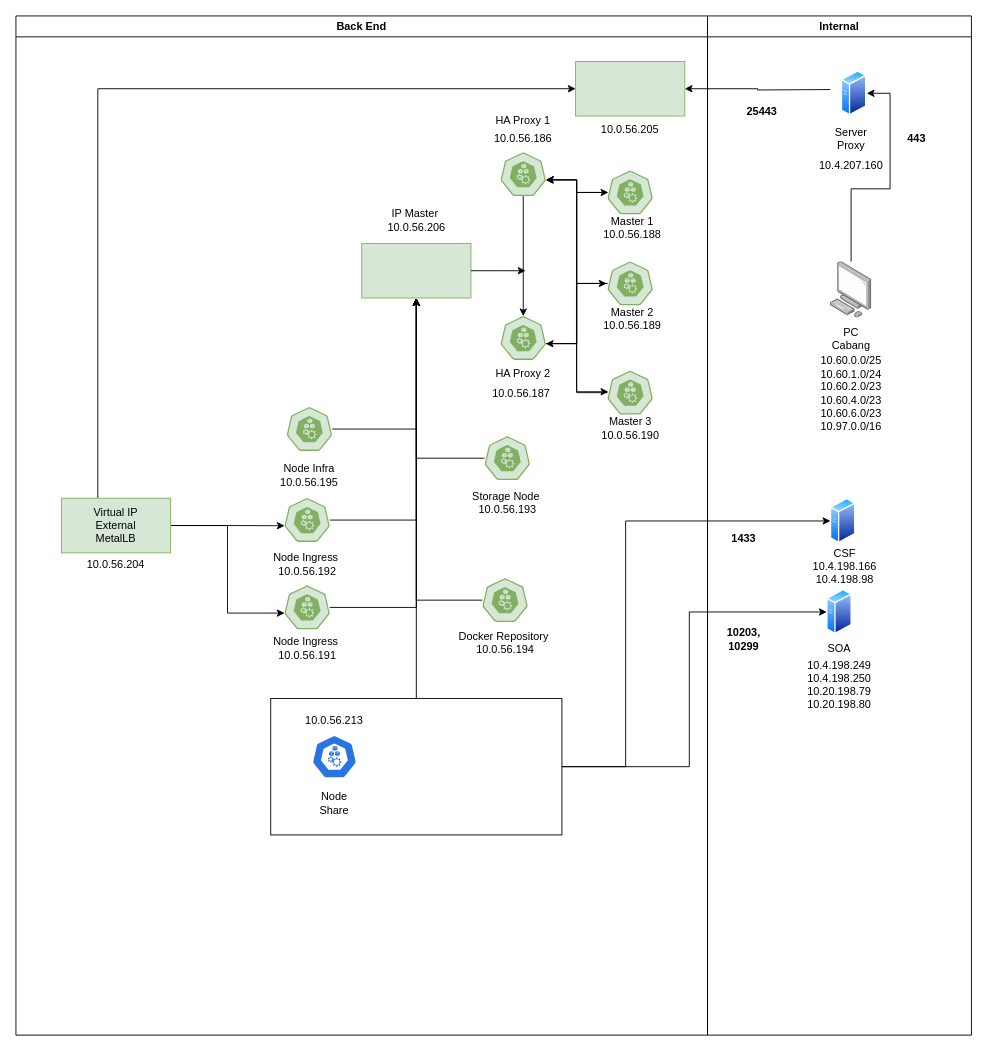
This 987x1051 diagram has some shape labels left out. Here are the shapes that lost their labels. From the top down, the centre of each, then its label:
At pixel 630 88: "Virtual IP Internal MetalLB".
At pixel 416 270: "Virtual IP Master".
